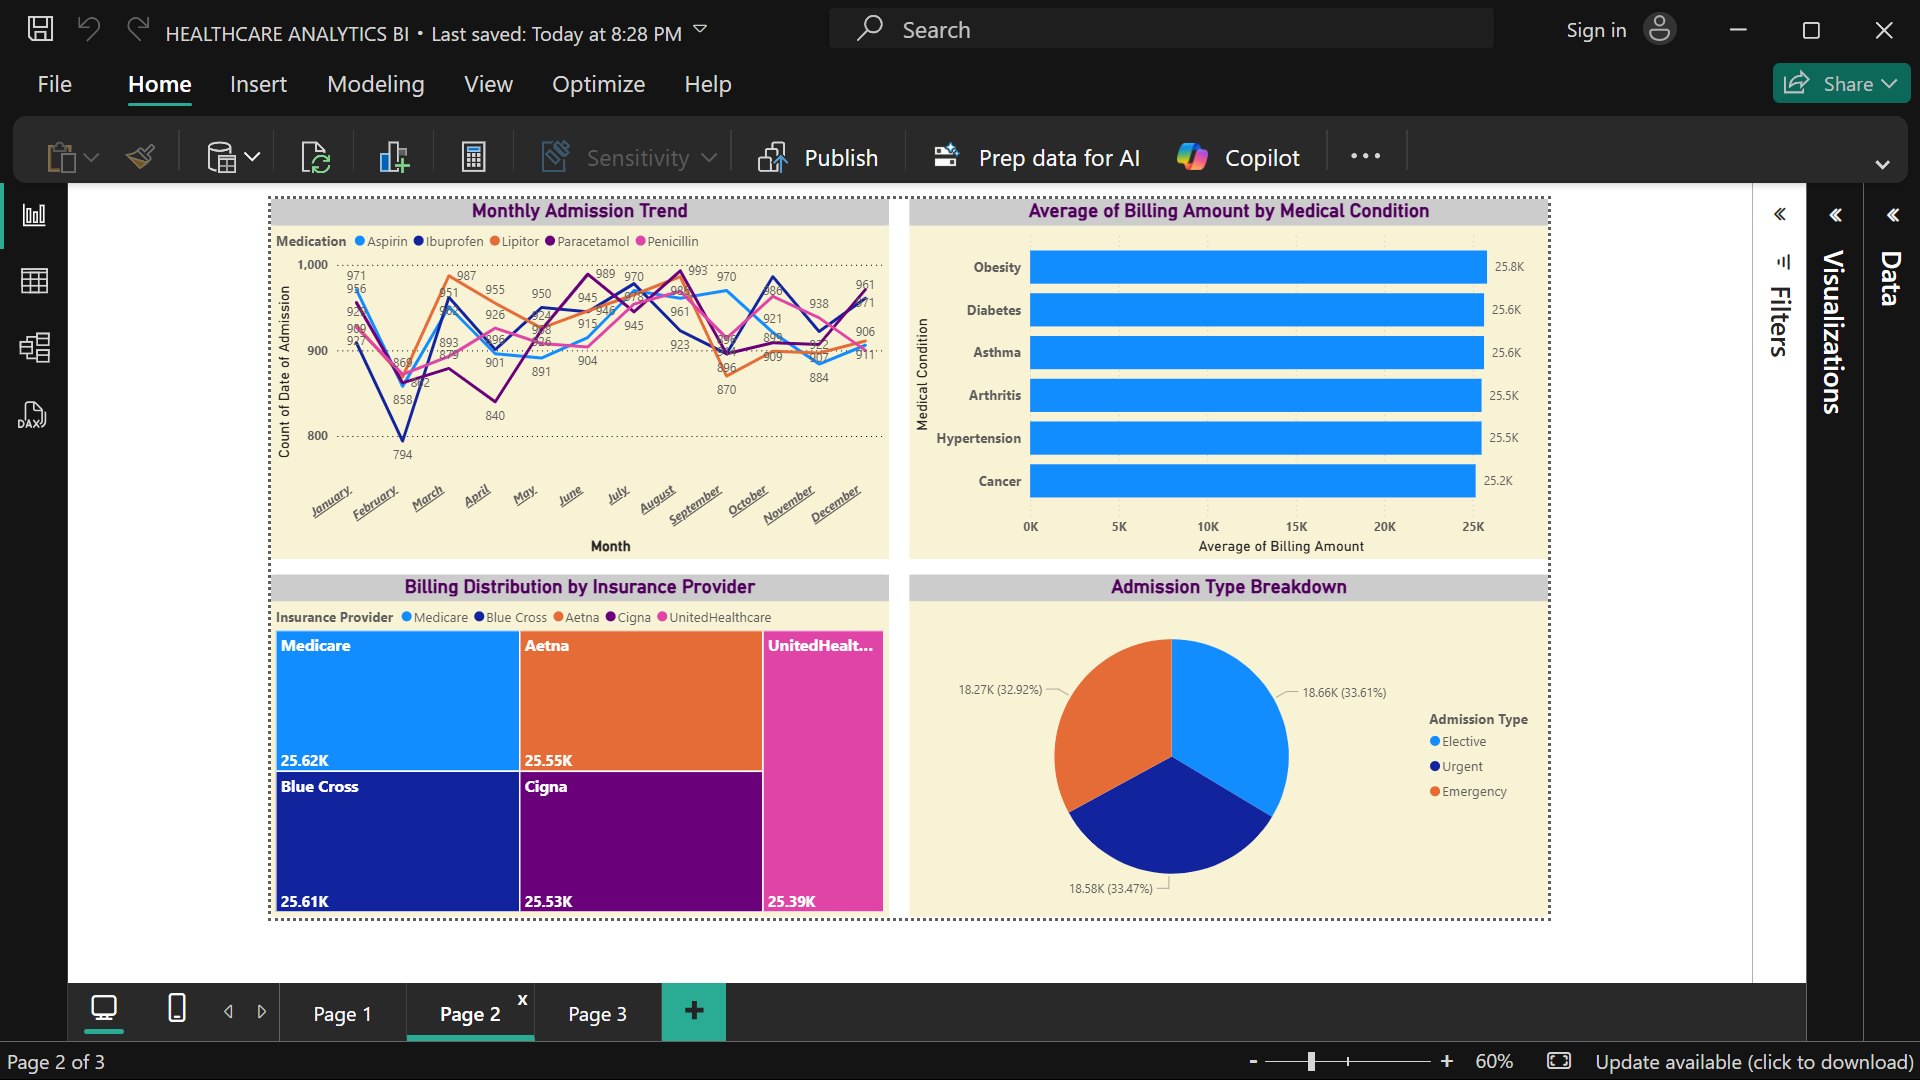

This screenshot's page, from the dashboard's own definition file:
{"tool":"powerbi","page":{"name":"Page 2","canvas":[1280,720],"ordinal":1},"visuals":[{"type":"lineChart","title":"Monthly Admission Trend","fields":{"Series":["healthcare_dataset.Medication"],"Category":["healthcare_dataset.Date of Admission.Variation.Date Hierarchy.Month"],"Y":["CountNonNull(healthcare_dataset.Date of Admission)"]},"box":[0,0,619.6,360.8],"z":0},{"type":"treemap","title":"Billing Distribution by Insurance Provider","fields":{"Group":["healthcare_dataset.Insurance Provider"],"Values":["Avg(healthcare_dataset.Billing Amount)"]},"box":[0,376.5,619.6,343.1],"z":1000},{"type":"barChart","fields":{"Category":["healthcare_dataset.Medical Condition"],"Y":["Avg(healthcare_dataset.Billing Amount)"]},"box":[639.2,0,641.2,360.8],"z":2000},{"type":"pieChart","title":"Admission Type Breakdown","fields":{"Category":["healthcare_dataset.Admission Type"],"Y":["CountNonNull(healthcare_dataset.Gender)"]},"box":[639.2,376.5,641.2,343.1],"z":3000}]}

Visuals, with their boxes on the page's 1280x720 design canvas (x1, y1, x2, y2). These are canvas units, not pixel positions in the 1920x1080 screenshot, which may show the page scaled, cropped or inside an application window:
"Monthly Admission Trend" lineChart: 0,0,620,361
"Billing Distribution by Insurance Provider" treemap: 0,376,620,720
barChart - healthcare_dataset.Medical Condition x Avg(healthcare_dataset.Billing Amount): 639,0,1280,361
"Admission Type Breakdown" pieChart: 639,376,1280,720
